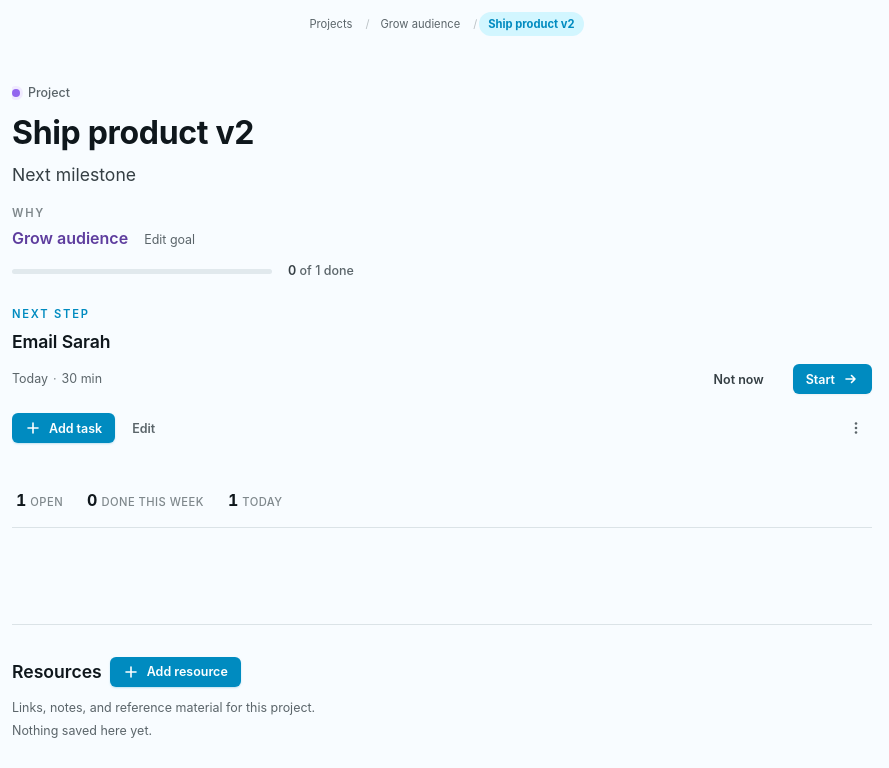
Scenario: ProjectDetailPage — re-link to goal (spec §C) › breaking the link opens the picker from the goal row and offers None (standalone)
// The "Edit goal" control on the WHY line opens the picker.
Click the button "Edit goal" at (170, 239), box top-left (144, 230), bottom-right (195, 249)
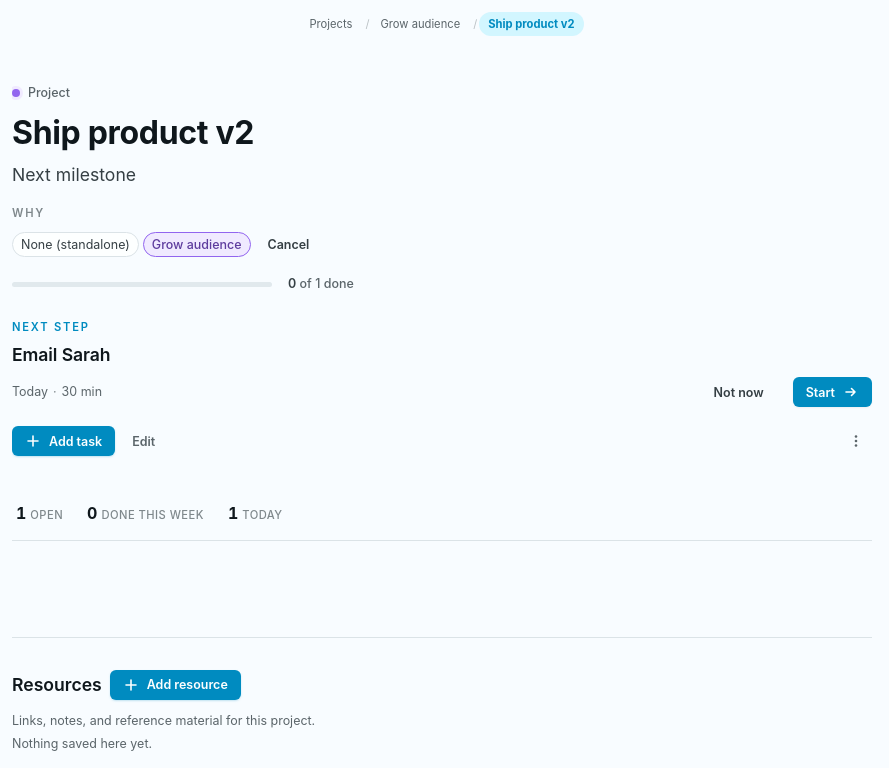
Result: the button "None (standalone)" is shown at top-left (12, 232), bottom-right (139, 257)
